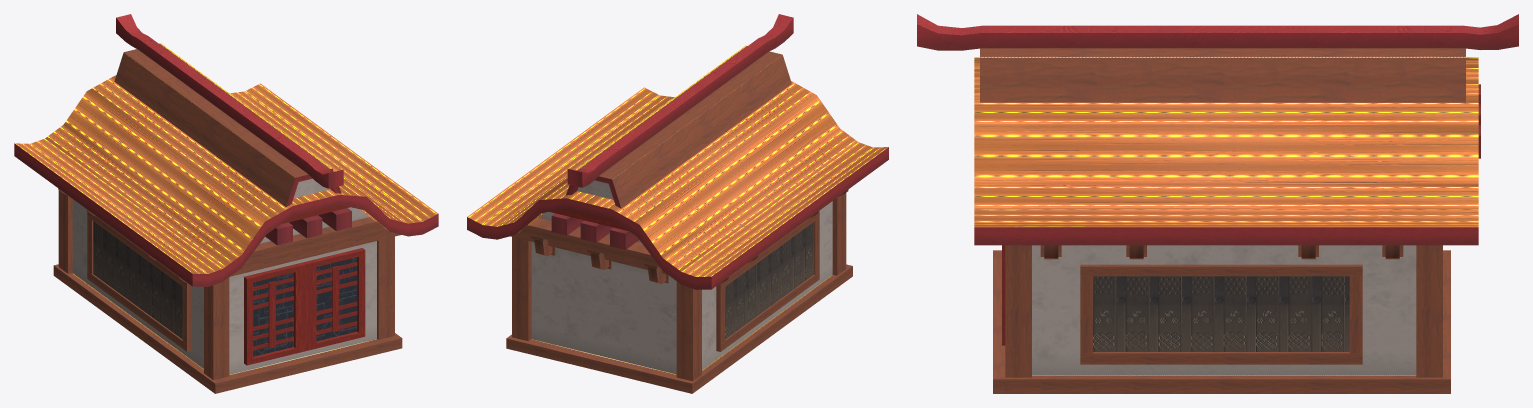
The model's file is Floor02_Art.fbx.
3 renders of one model, left to right at view 1: azimuth 30°, elevation 25°; view 2: azimuth 150°, elevation 25°; view 3: azimuth 270°, elevation 25°, orthographic. The views are drawn at different scales.
Parts seen in each view (by area): view 1: Floor02_Art; view 2: Floor02_Art; view 3: Floor02_Art.
Part boxes in pixels (x1,y1,x2,y2): Floor02_Art: (14,14,438,393); Floor02_Art: (467,14,888,393); Floor02_Art: (917,14,1518,393).
Bounding box in the file's own units: 15.73 × 13.4 × 23.54.
